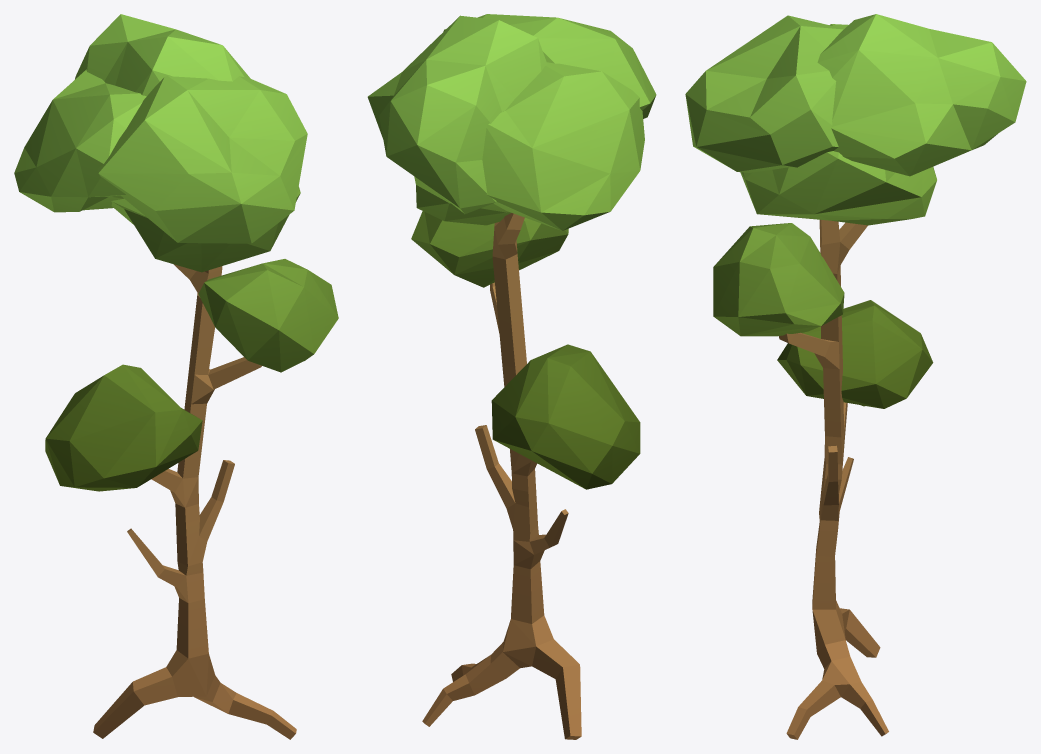
The model's file is LP_Tree_06.fbx.
The picture shows the model from 3 angles, left to right: view 1: azimuth 30°, elevation 25°; view 2: azimuth 150°, elevation 25°; view 3: azimuth 270°, elevation 25°; orthographic projection. The views are drawn at different scales.
Parts seen in each view (by area): view 1: LP_Tree_06_LOD0; view 2: LP_Tree_06_LOD0; view 3: LP_Tree_06_LOD0.
Part boxes in pixels (left/top/right/bottom): LP_Tree_06_LOD0: left=14, top=14, right=338, bottom=739; LP_Tree_06_LOD0: left=367, top=14, right=656, bottom=739; LP_Tree_06_LOD0: left=685, top=14, right=1026, bottom=739.
Size of what is drawn, in the model's own units: 2.13 by 5.73 by 2.57.
